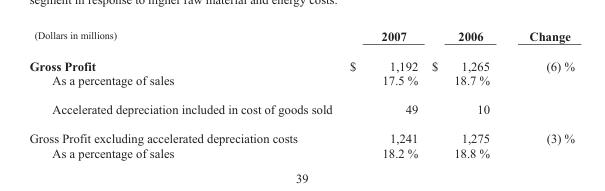table: (28, 28, 574, 159)
table column: (28, 28, 340, 159), (340, 28, 424, 159), (424, 28, 508, 159), (508, 28, 574, 159)
table column header: (28, 28, 574, 50)
table row: (28, 94, 574, 123), (28, 28, 574, 50), (28, 50, 574, 72), (28, 72, 574, 94), (28, 123, 574, 145), (28, 145, 574, 159)
